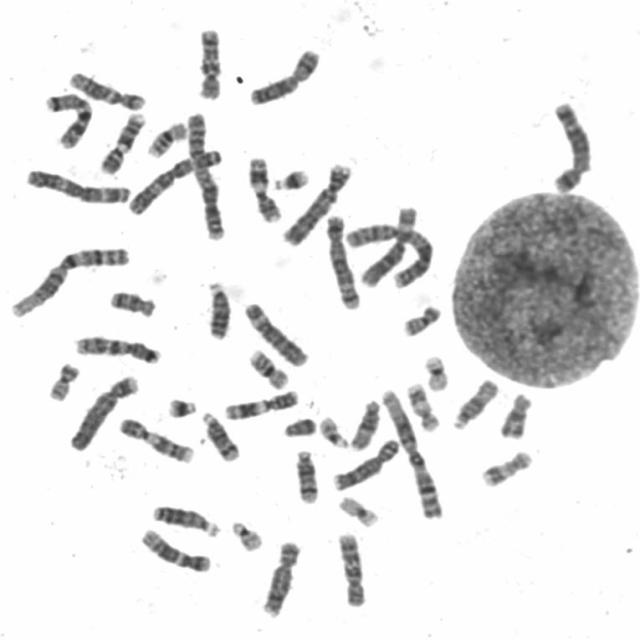A1: (4, 239, 133, 319), (374, 383, 445, 520)
A2: (340, 216, 438, 290), (180, 105, 228, 242)
A3: (122, 142, 225, 216), (19, 162, 133, 205)
B4: (276, 156, 354, 248), (64, 368, 142, 452)
B5: (544, 94, 594, 195), (321, 208, 363, 310)
C10: (331, 526, 369, 608), (191, 20, 224, 101)
C11: (218, 384, 302, 422), (242, 149, 284, 224)
C12: (134, 522, 213, 574), (62, 65, 147, 111)
C6: (356, 200, 420, 288), (238, 295, 310, 368)
C7: (39, 86, 94, 150), (68, 329, 162, 365)
C8: (326, 433, 402, 492), (255, 534, 303, 619)
C9: (112, 411, 197, 465), (94, 105, 148, 175)
D13: (146, 498, 222, 538), (200, 274, 233, 340)
D14: (195, 405, 242, 463), (289, 442, 321, 506)
D15: (446, 372, 500, 432), (344, 393, 382, 452)
E16: (243, 343, 292, 390), (142, 115, 188, 159)
E17: (474, 444, 534, 488), (401, 376, 442, 433)
E18: (494, 387, 534, 440), (104, 284, 159, 319)
F19: (332, 490, 382, 529), (417, 348, 452, 393)
F20: (42, 355, 82, 403), (397, 298, 444, 338)
G21: (268, 163, 311, 192), (161, 391, 199, 419)
G22: (225, 514, 265, 553), (313, 409, 351, 449)
X: (242, 42, 323, 107)
Y: (278, 411, 318, 438)
